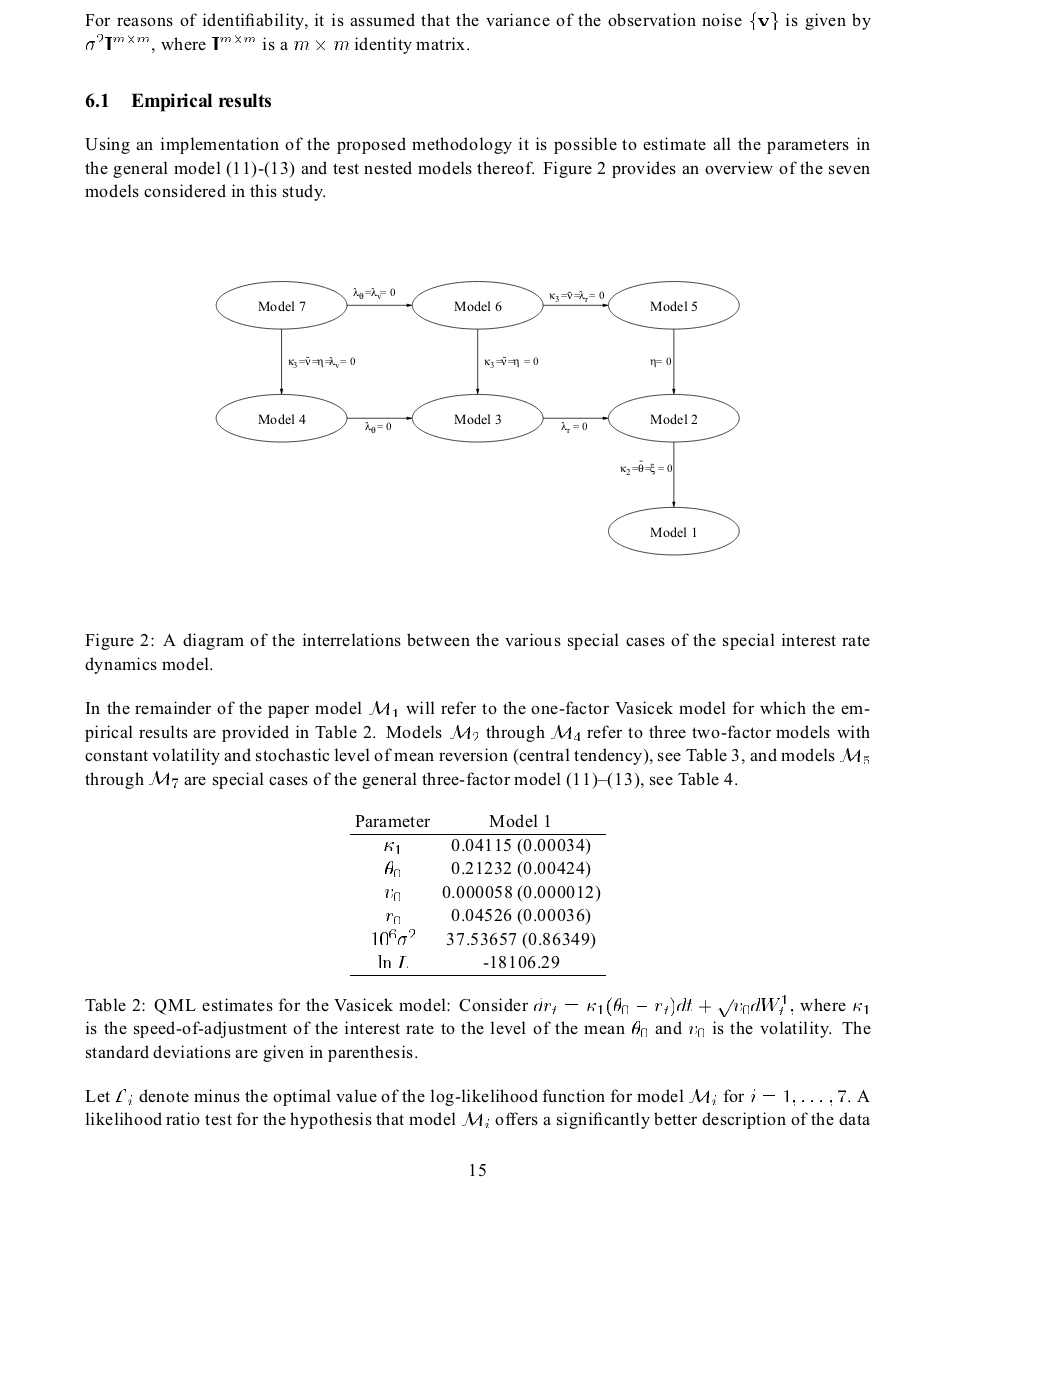Table: (350, 814, 605, 975)
figure: (215, 280, 739, 556)
